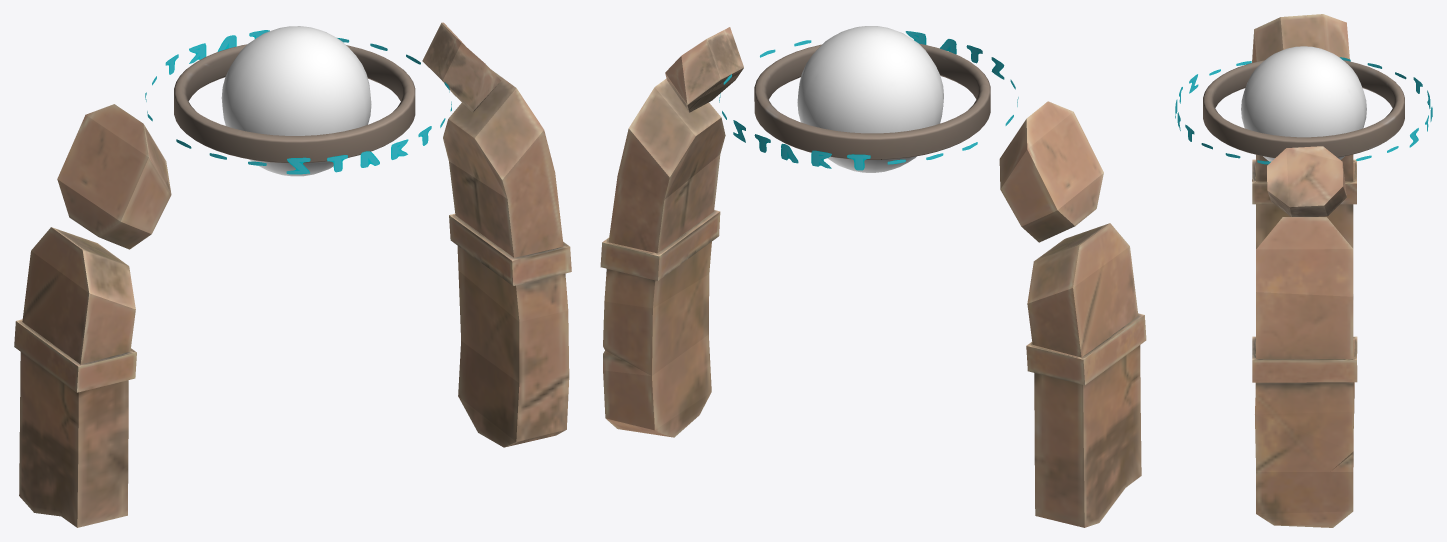
File: gate.fbx
3 views of the same model, side by side, from view 1: azimuth 30°, elevation 25°; view 2: azimuth 150°, elevation 25°; view 3: azimuth 270°, elevation 25° (orthographic). The views are drawn at different scales.
Visible parts, largest first — view 1: gate, sphere, finish; view 2: gate, sphere, finish; view 3: gate, sphere, finish.
Boxes of the visible parts, x1,y1,x2,y2 form: gate: [14, 22, 571, 527]; sphere: [221, 26, 371, 176]; finish: [145, 30, 451, 174]; gate: [600, 27, 1146, 527]; sphere: [797, 26, 943, 172]; finish: [719, 31, 1018, 170]; gate: [1203, 14, 1404, 527]; sphere: [1241, 46, 1366, 161]; finish: [1175, 57, 1432, 164].
Bounding box in the file's own units: 1980 × 1733 × 1067.
